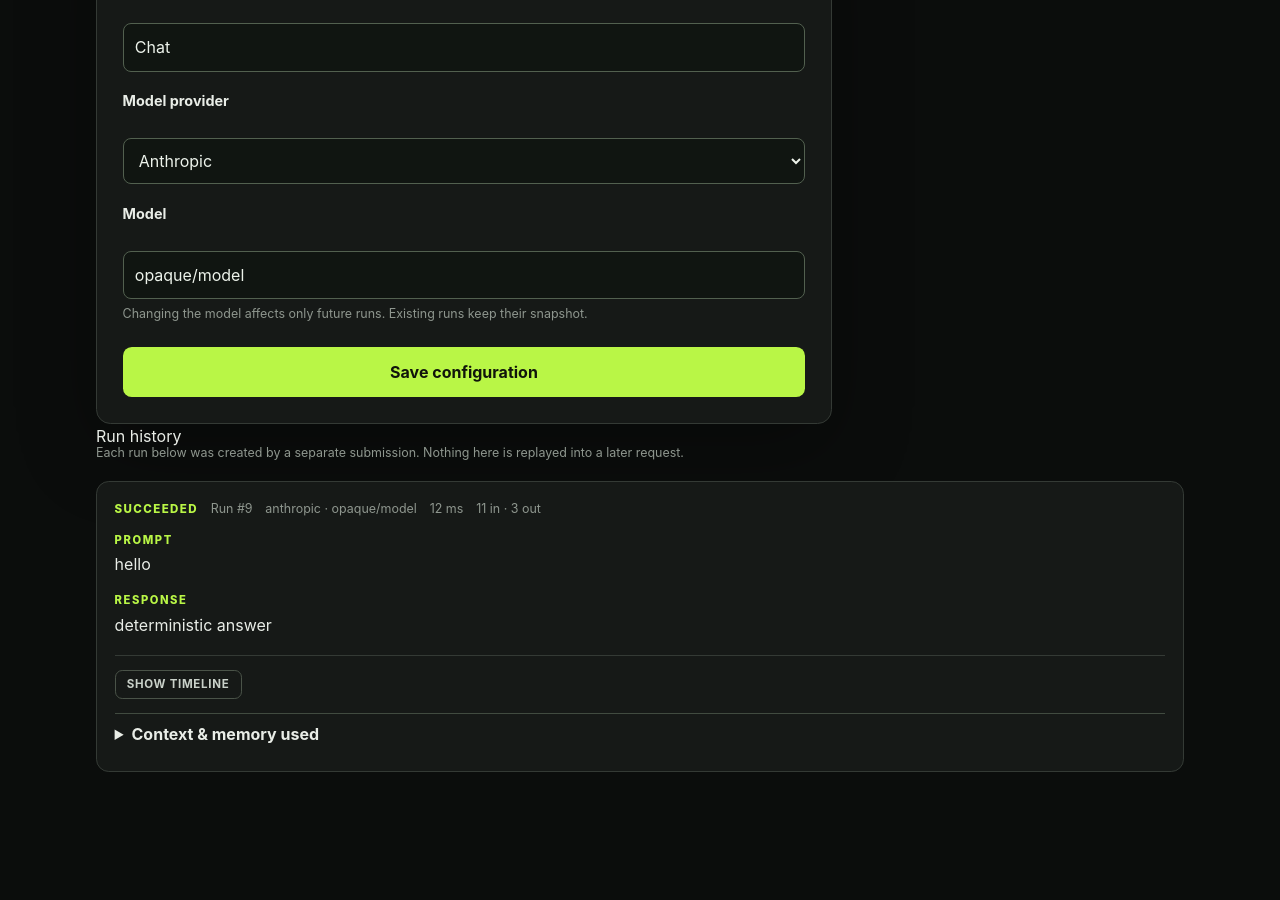
Test: agent detail page timeline › costs no request until the reader expands a run
(page scrolled)
Check: the text "Succeeded" is shown, box [115,501,198,518]
What coordinates should you click on to do the following:
click the button "Show timeline"
I would click on:
 (178, 685)
Its box is [115,670,242,699].
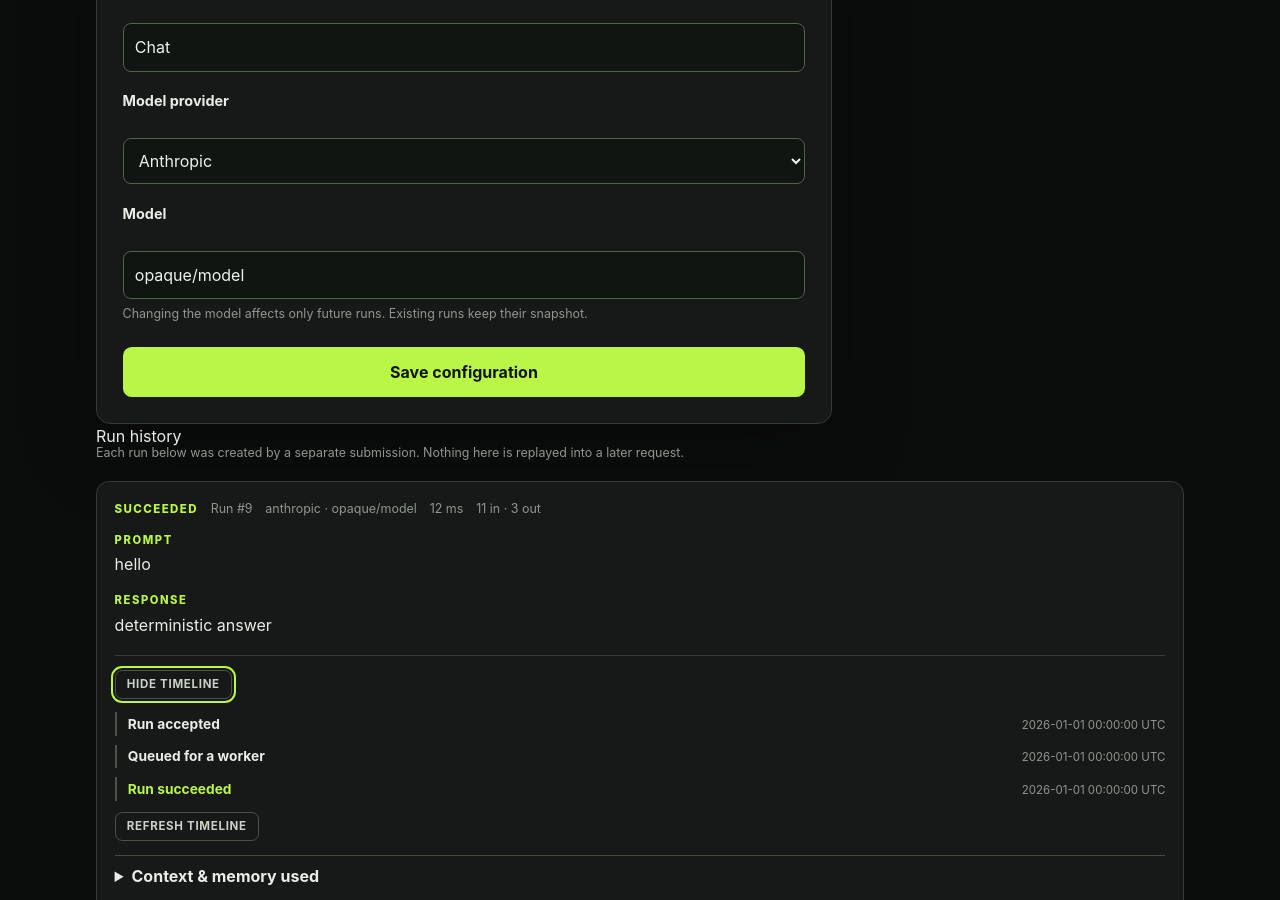
Check: the text "Run accepted" is shown, box [128,714,220,734]
